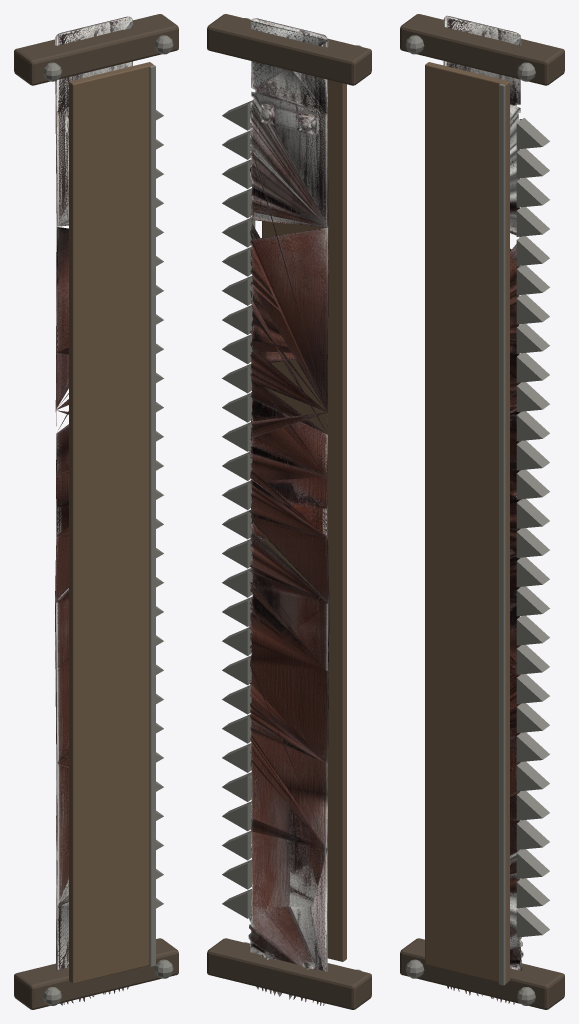
The model's file is testere_bicak.glb.
The picture shows the model from 3 angles, left to right: view 1: azimuth 30°, elevation 25°; view 2: azimuth 150°, elevation 25°; view 3: azimuth 330°, elevation 25°; orthographic projection.
Parts seen in each view (by area): view 1: Continuous solid blade face, Mesh_0, Polished cutting edge, Short iron mounting crossbar.001, Short iron mounting crossbar; view 2: Mesh_0, Continuous solid blade face, Short iron mounting crossbar, Short iron mounting crossbar.001, Right cutting tooth 20, Right cutting tooth 23, Right cutting tooth 17, Right cutting tooth 21, Right cutting tooth 24, Right cutting tooth 01, Right cutting tooth 19, Right cutting tooth 04 (+20 smaller); view 3: Continuous solid blade face, Mesh_0, Polished cutting edge, Short iron mounting crossbar.001, Short iron mounting crossbar, Right cutting tooth 27, Right cutting tooth 00, Right cutting tooth 05, Right cutting tooth 10, Right cutting tooth 26, Right cutting tooth 01, Right cutting tooth 21 (+21 smaller).
Part boxes in pixels (x1,y1,x2,y2): Continuous solid blade face: (69,62,153,983); Mesh_0: (55,16,133,1005); Polished cutting edge: (149,65,155,966); Short iron mounting crossbar.001: (14,14,178,85); Short iron mounting crossbar: (14,938,178,1009); Mesh_0: (248,18,329,1005); Continuous solid blade face: (262,80,346,961); Short iron mounting crossbar: (207,938,371,1009); Short iron mounting crossbar.001: (207,14,371,85); Right cutting tooth 20: (222,305,252,334); Right cutting tooth 23: (222,218,255,247); Right cutting tooth 17: (222,393,252,422); Right cutting tooth 21: (222,276,252,305); Right cutting tooth 24: (222,188,252,218); Right cutting tooth 01: (222,859,251,889); Right cutting tooth 19: (222,334,252,364); Right cutting tooth 04: (222,772,251,801); Continuous solid blade face: (425,62,509,983); Mesh_0: (443,15,523,1004); Polished cutting edge: (499,83,505,985); Short iron mounting crossbar.001: (400,14,564,85); Short iron mounting crossbar: (400,938,564,1009); Right cutting tooth 27: (516,118,549,149); Right cutting tooth 00: (516,907,549,937); Right cutting tooth 05: (516,761,549,791); Right cutting tooth 10: (516,615,549,645); Right cutting tooth 26: (516,148,549,178); Right cutting tooth 01: (516,878,549,908); Right cutting tooth 21: (516,294,549,324).
Bounding box in the file's own units: 0.16 × 1 × 0.053.
4 materials, 1 textured.
